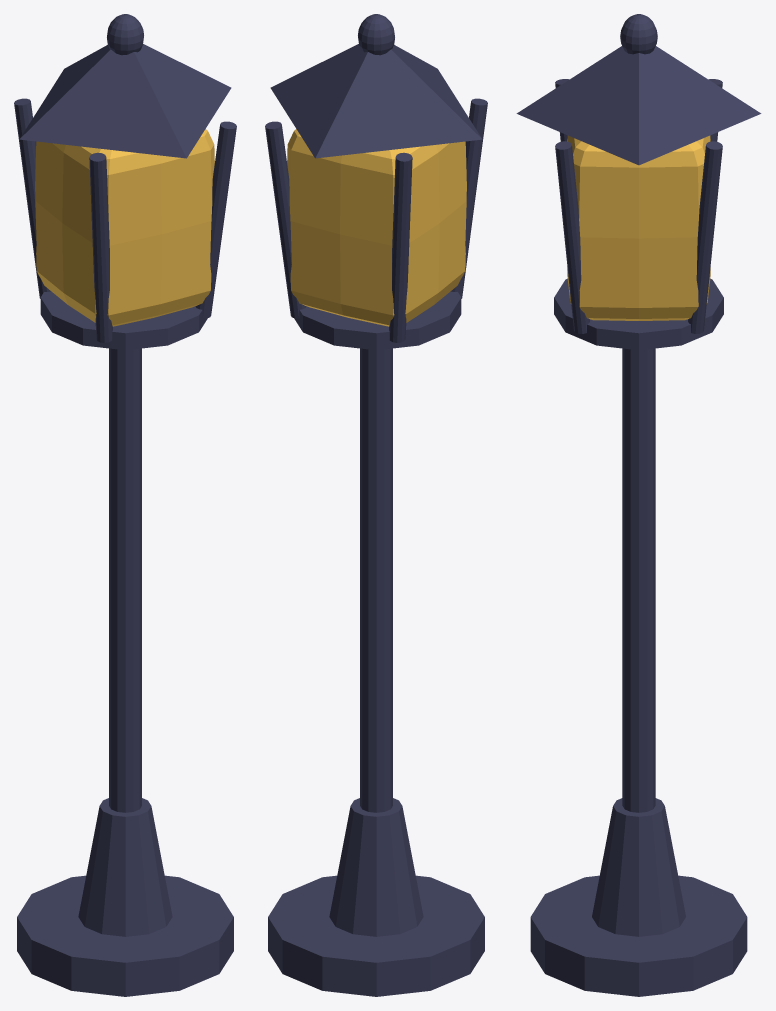
Rendered from streetlight-floor-lamp.glb.
The picture shows the model from 3 angles, left to right: view 1: azimuth 30°, elevation 25°; view 2: azimuth 150°, elevation 25°; view 3: azimuth 270°, elevation 25°; orthographic projection.
Visible parts, largest first — view 1: streetlight-floor-lamp; view 2: streetlight-floor-lamp; view 3: streetlight-floor-lamp.
Boxes of the visible parts, left/top/right/bottom form: streetlight-floor-lamp: left=14, top=14, right=236, bottom=996; streetlight-floor-lamp: left=265, top=14, right=487, bottom=996; streetlight-floor-lamp: left=516, top=14, right=761, bottom=996.
Bounding box in the file's own units: 0.52 × 2.19 × 0.52.
